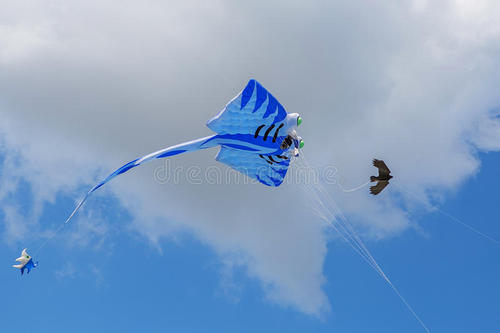kite: (64, 77, 306, 233), (363, 156, 396, 197), (11, 246, 39, 280)
